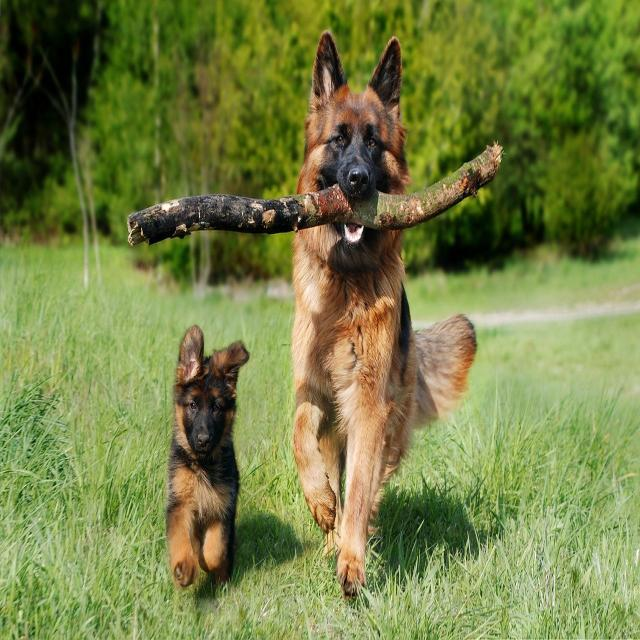GERMAN_SHEPHERD: (287, 22, 490, 630), (154, 314, 254, 608)
